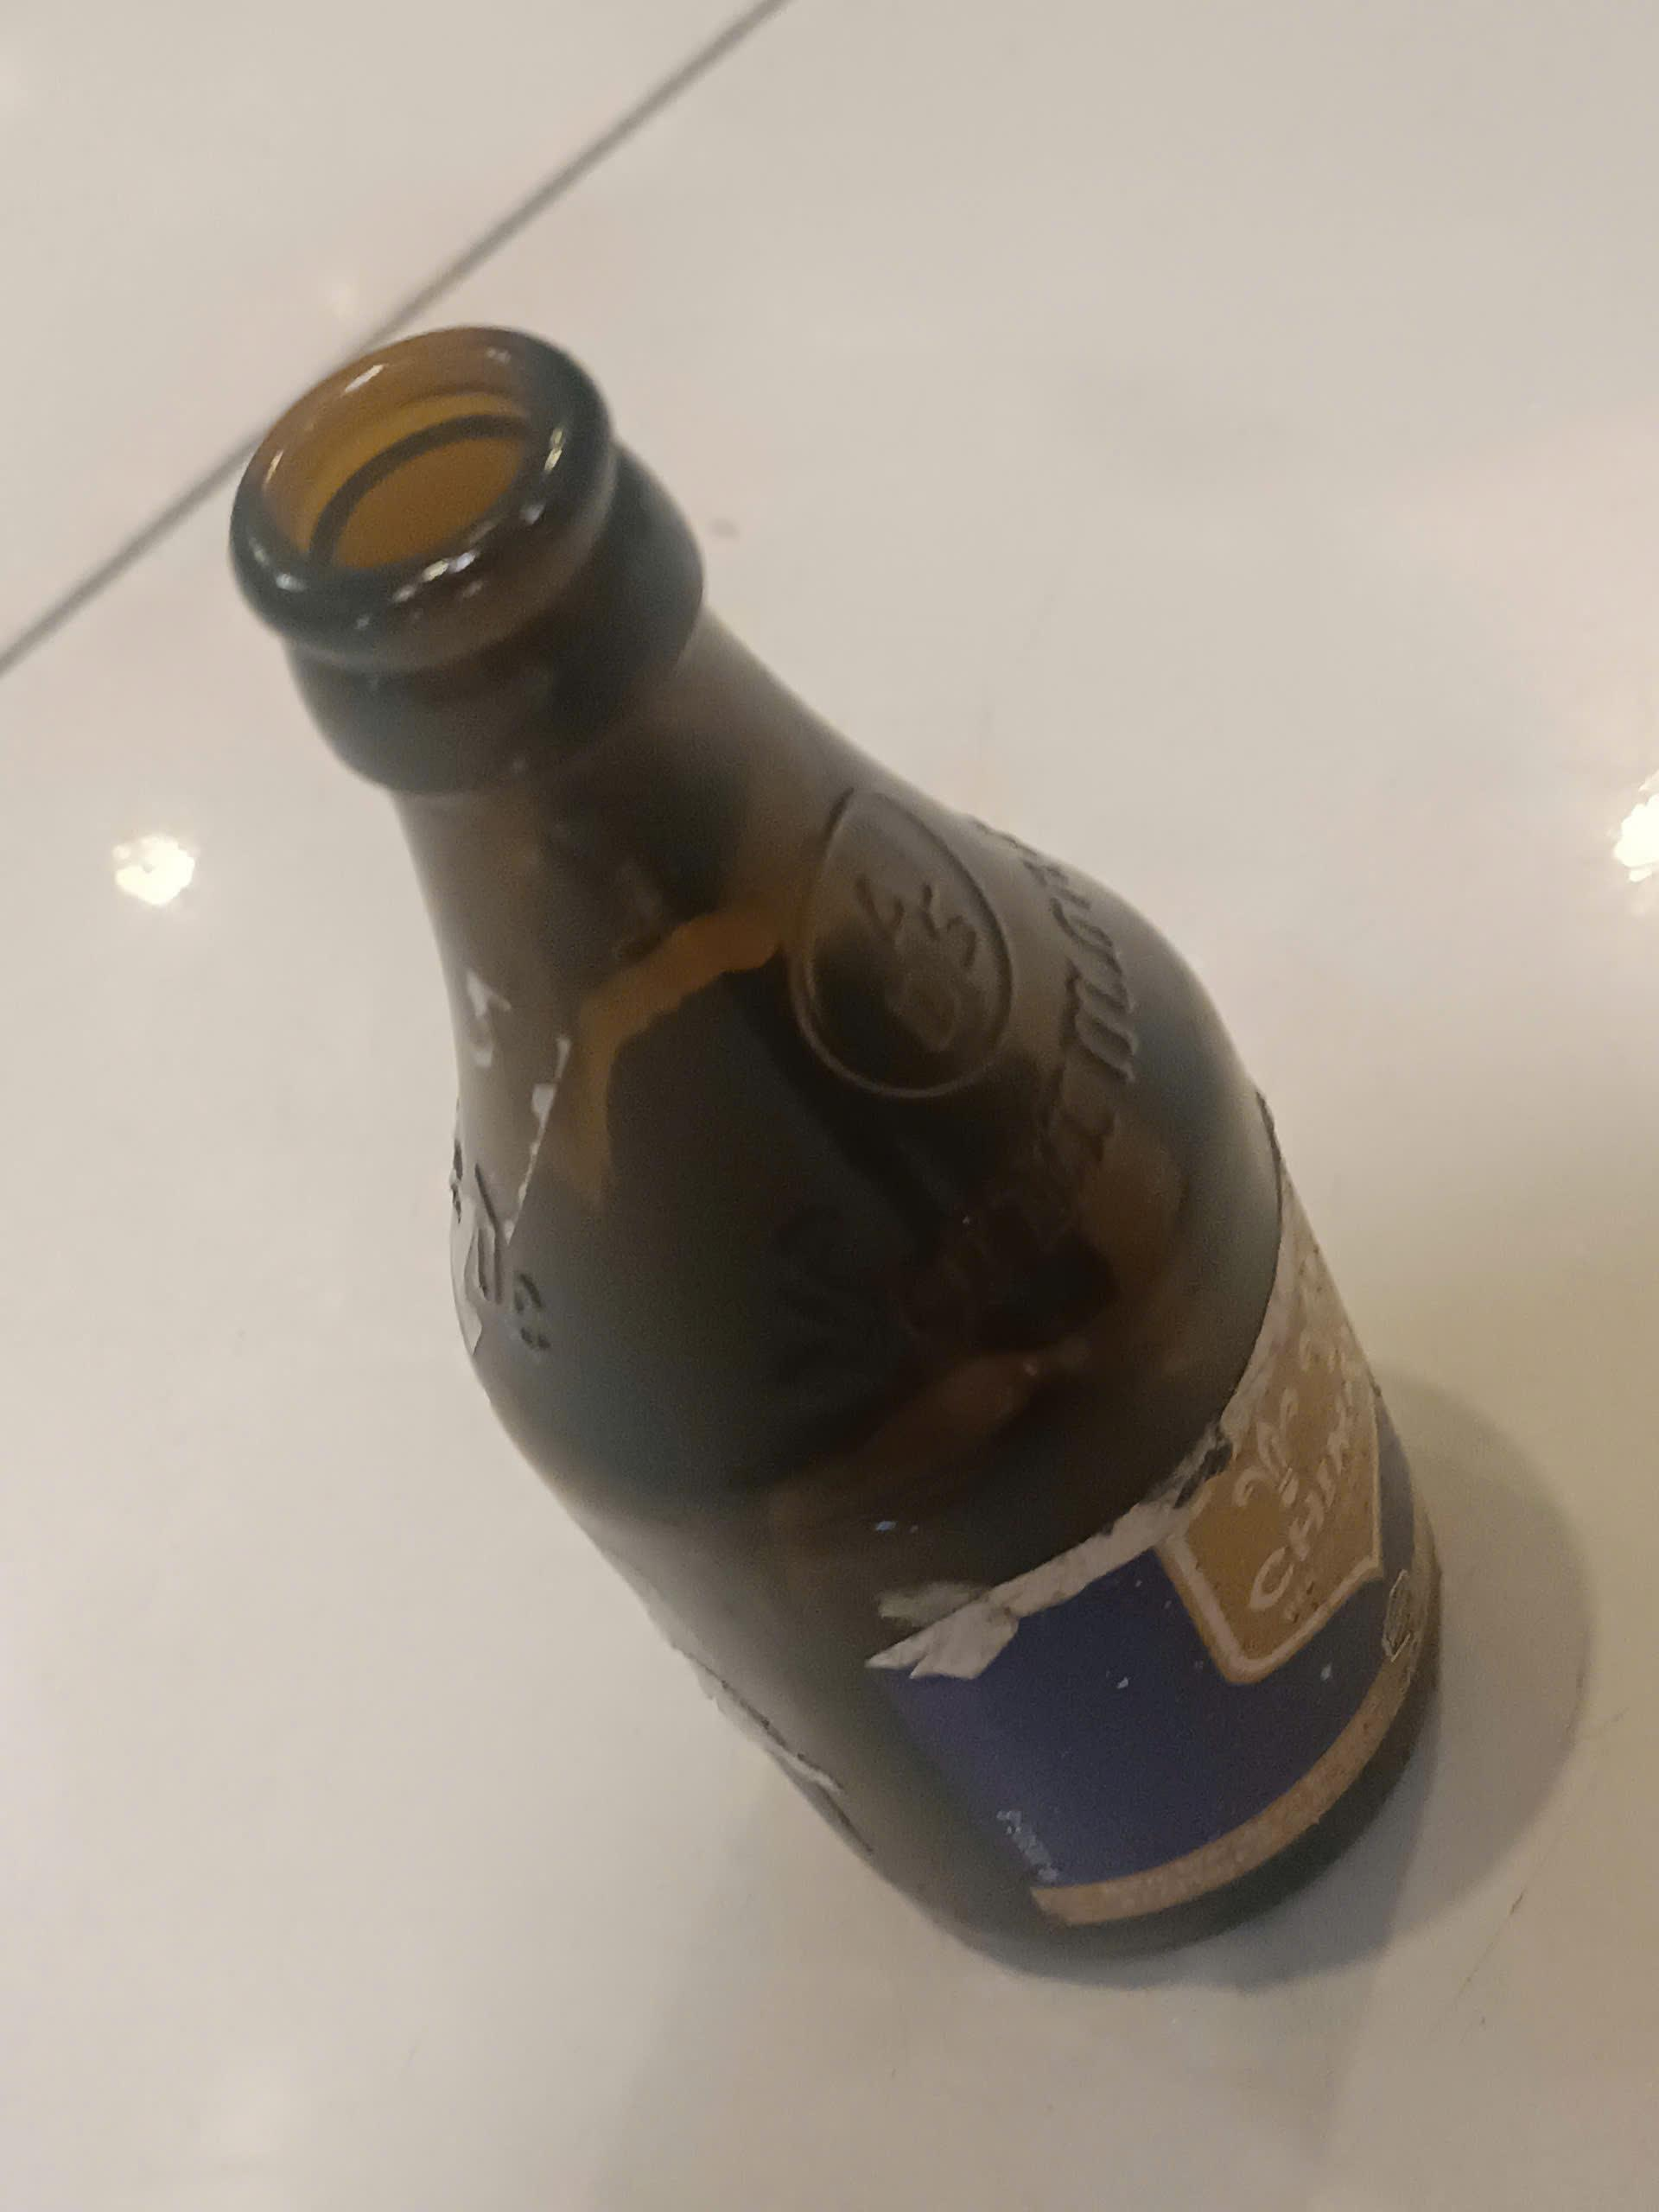Vo co: (237, 320, 1438, 1958)
